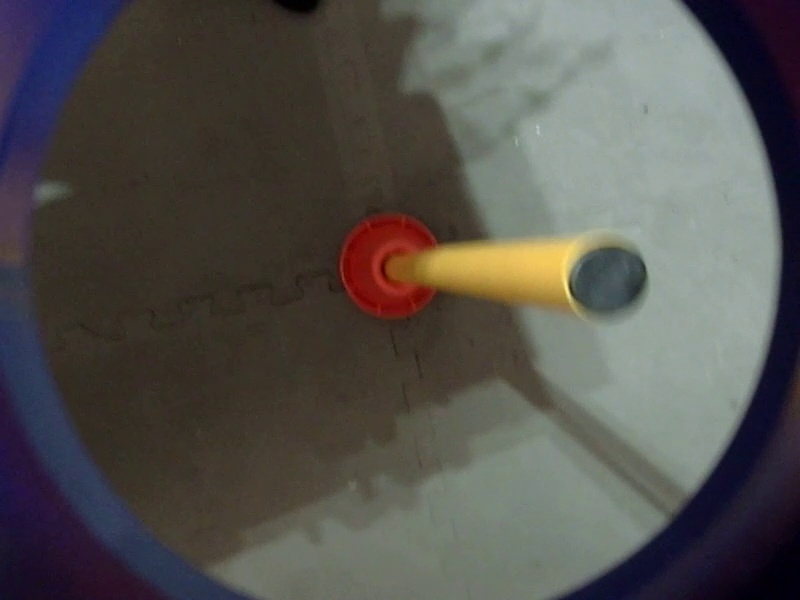tip: (484, 281, 588, 389)
